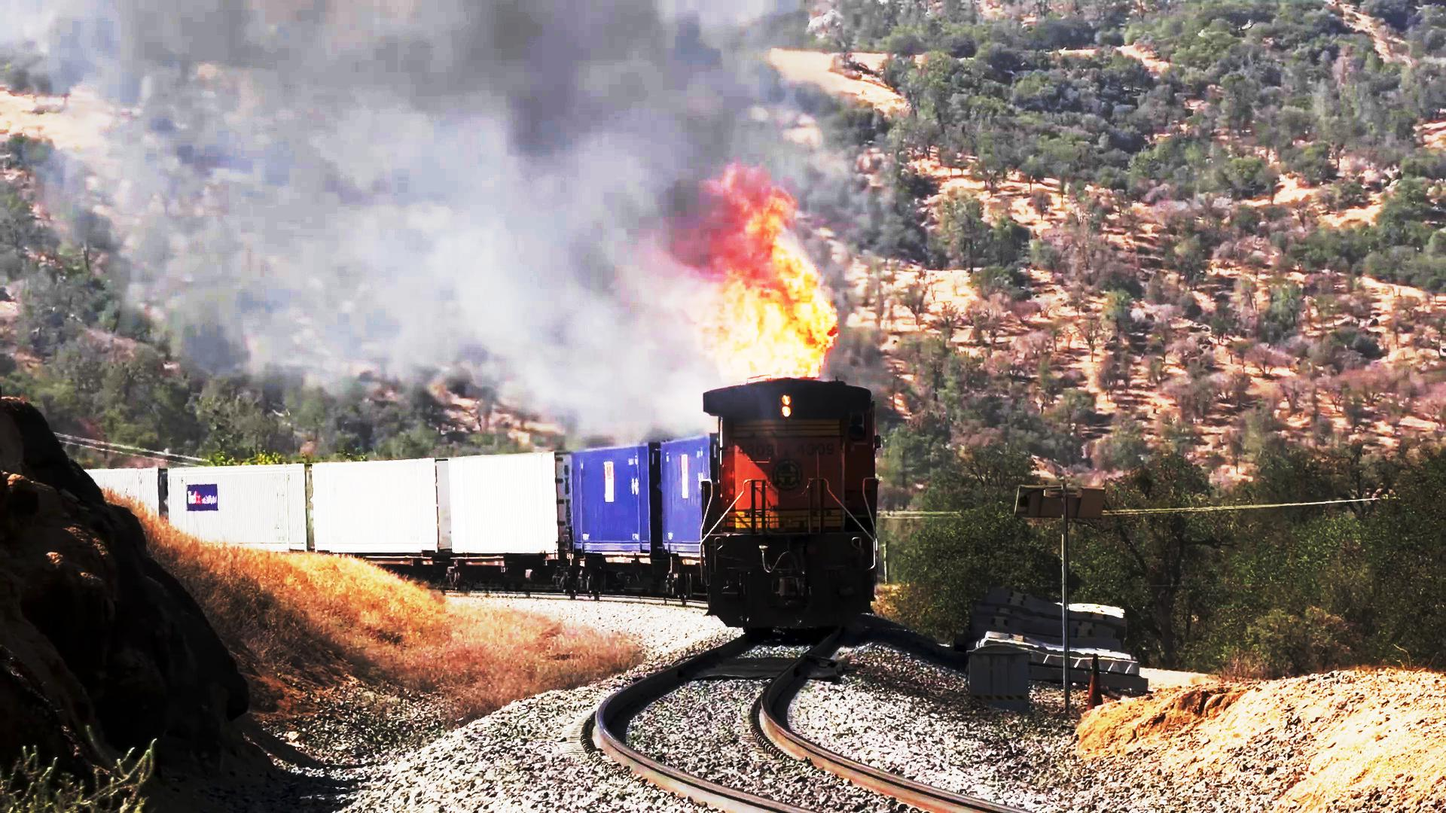fire: (676, 168, 844, 398)
